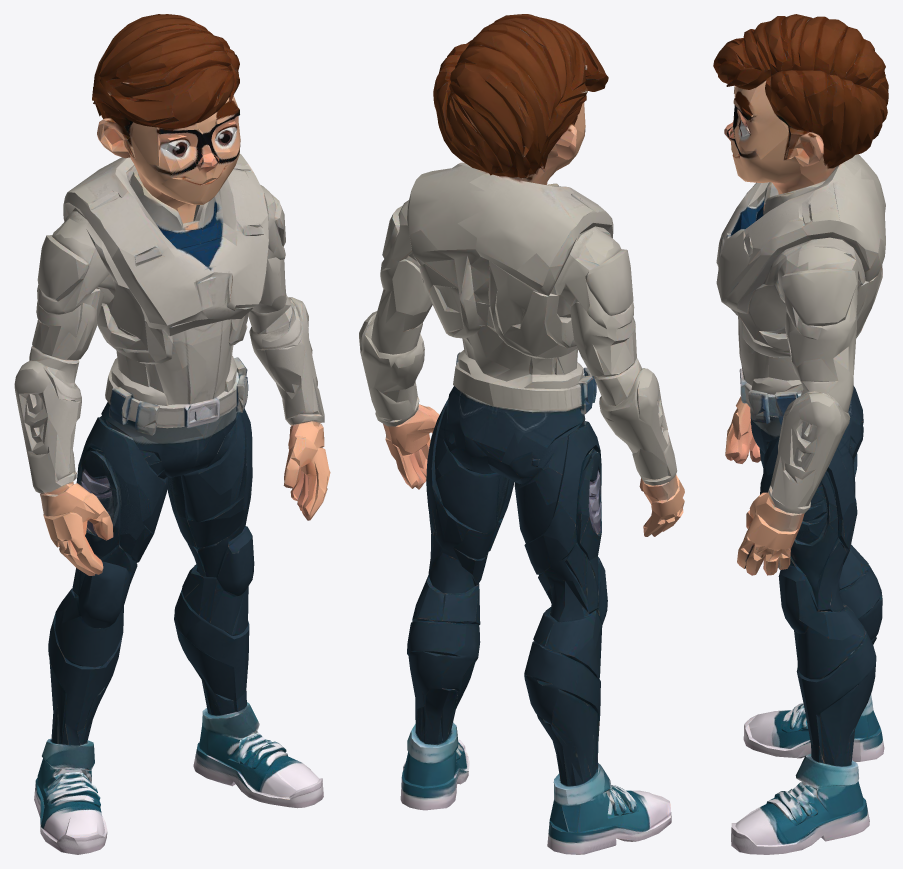
The model's file is npc-globant-2021.glb.
3 views of the same model, side by side, from view 1: azimuth 30°, elevation 25°; view 2: azimuth 150°, elevation 25°; view 3: azimuth 270°, elevation 25° (orthographic).
Size of the model in its own units: 0.7433 by 1.9 by 0.3907.
Materials: 1 (1 with a texture image).
